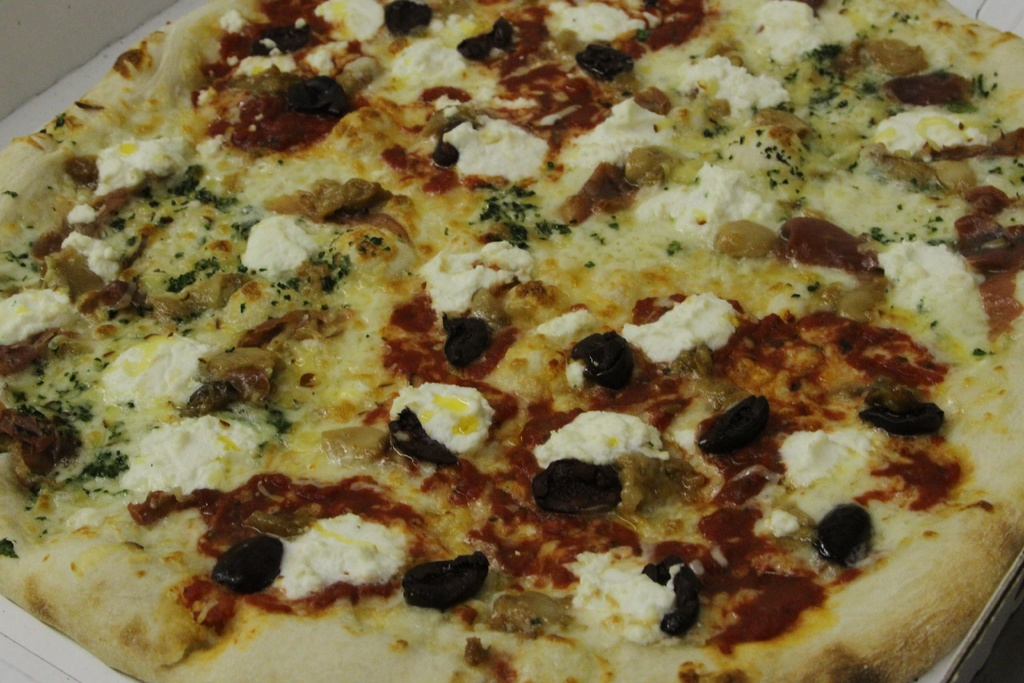Pizza: (0, 5, 1024, 683)
